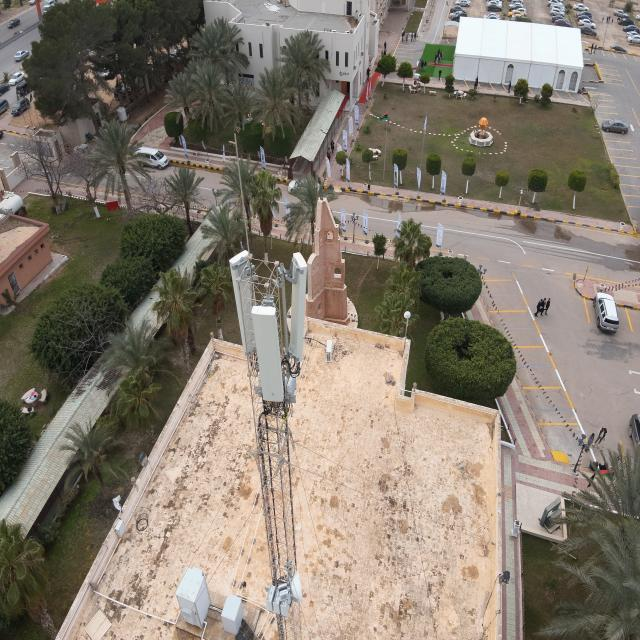antenna: (250, 305, 287, 404), (228, 249, 254, 360), (288, 248, 309, 364)
lighnig-rad: (234, 130, 252, 261)
microware-dish: (276, 570, 306, 606)
power-box: (265, 584, 292, 618)
radio-unit: (254, 370, 300, 400)
